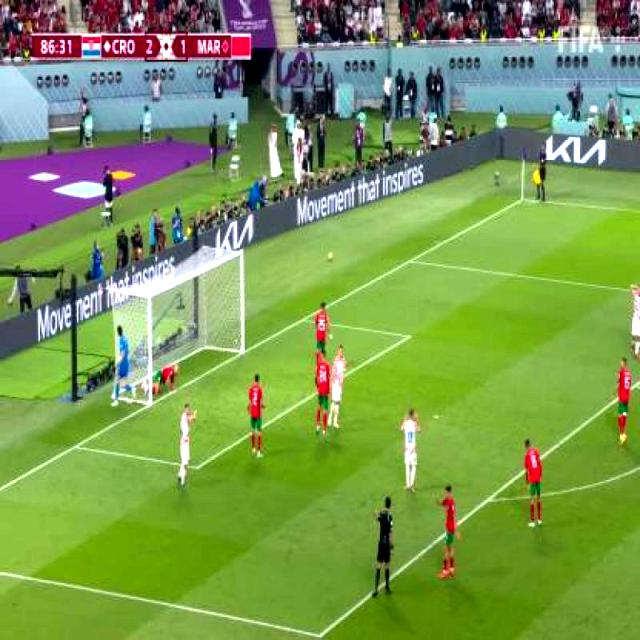bigarea_bottom_inner: (308, 623, 332, 640)
bigarea_top_outter: (403, 251, 422, 271)
bottom_arc_area_intersection: (477, 484, 505, 516)
corner: (516, 192, 530, 206)
smallarea_bottom_inner: (191, 454, 206, 482)
smallarea_bottom_outter: (68, 437, 84, 458)
smallarea_top_inner: (401, 321, 416, 351)
smallarea_top_outter: (298, 311, 312, 331)
top_arc_area_intersection: (632, 375, 640, 397)
